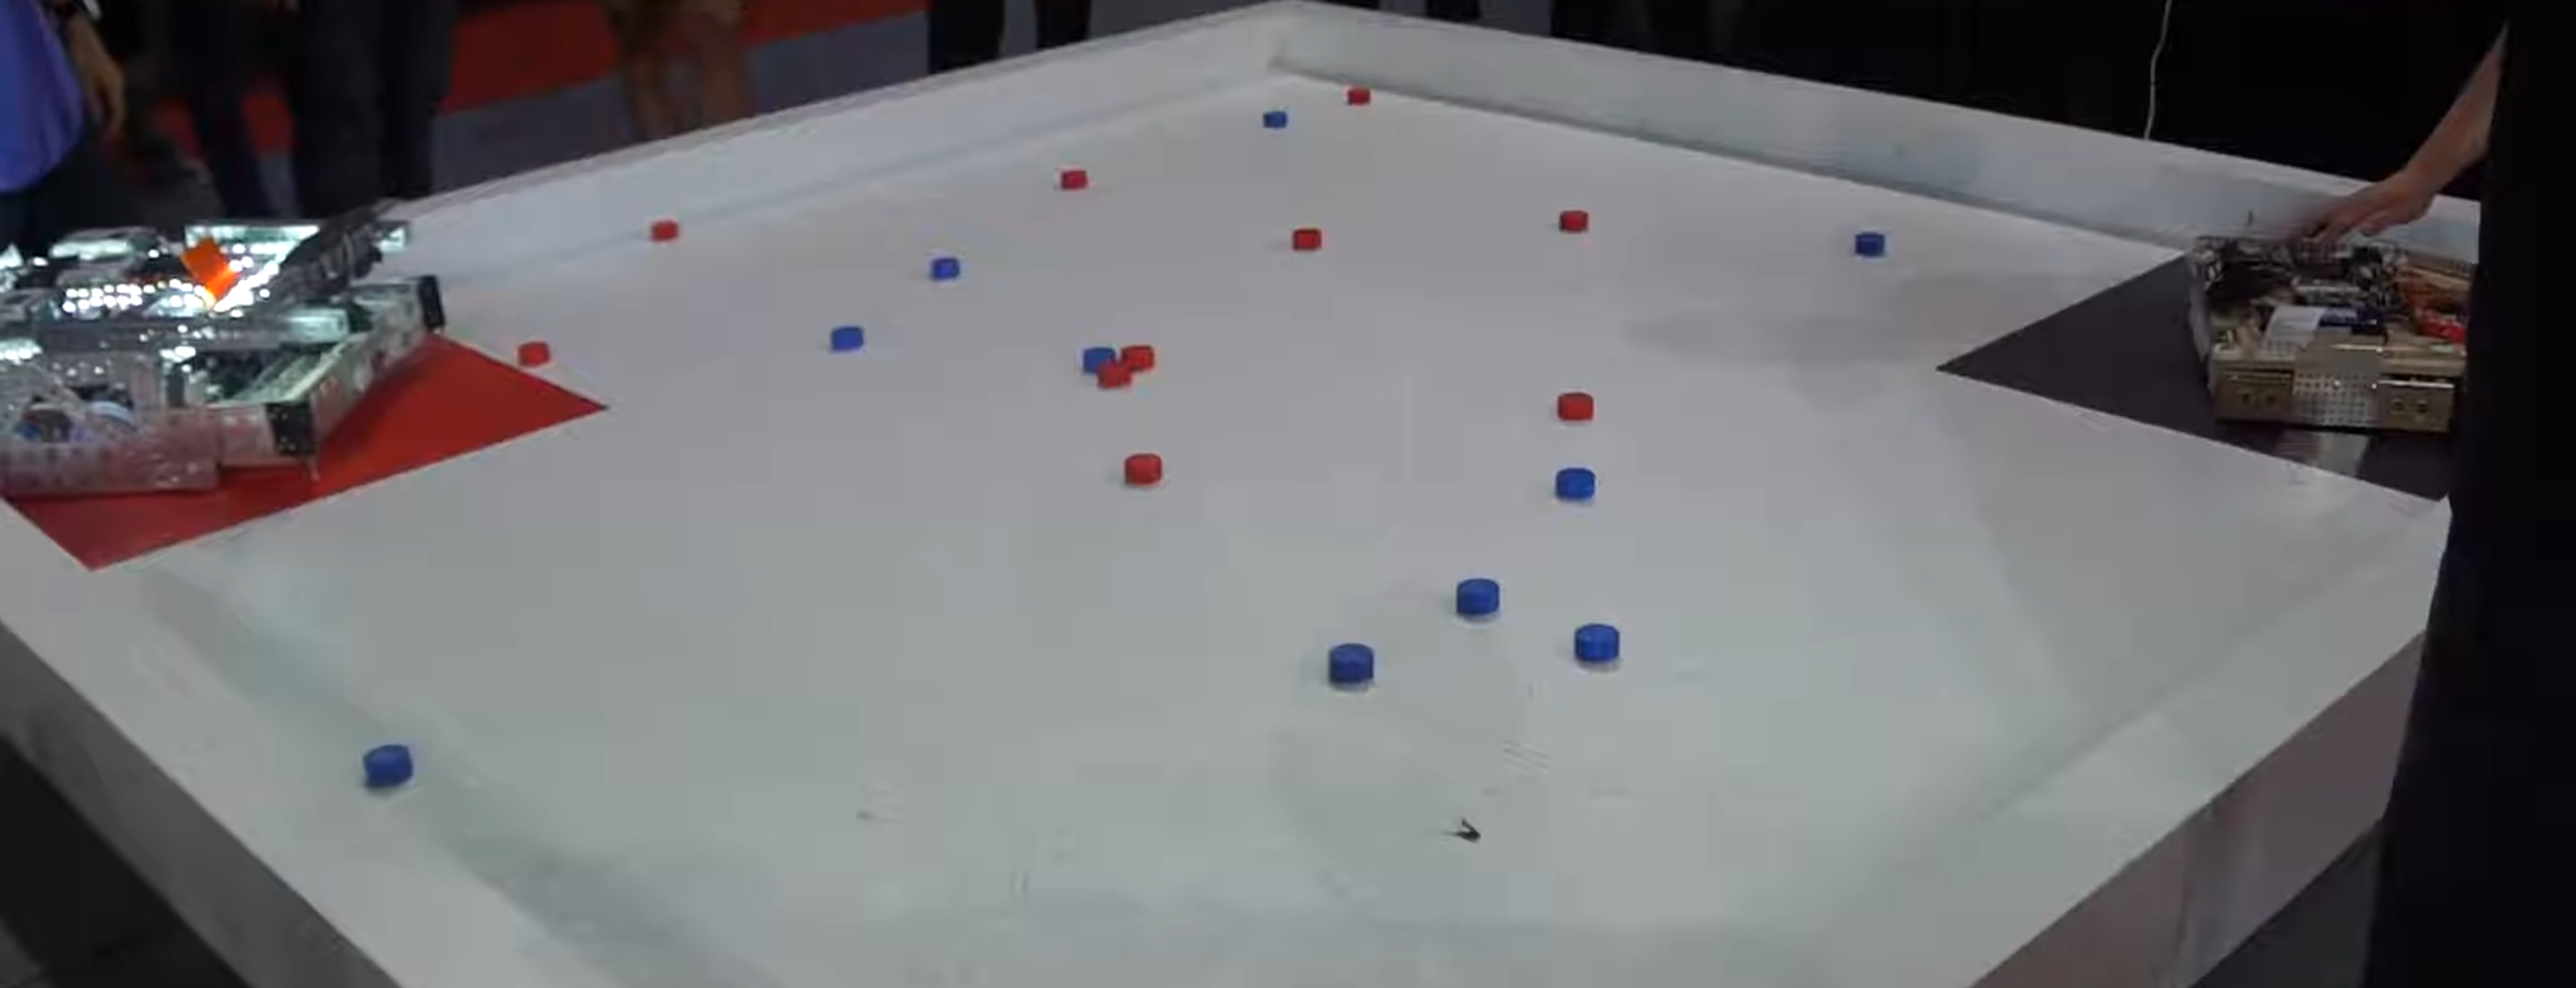blue_puck: (358, 743, 421, 789), (1569, 621, 1626, 667), (1449, 574, 1502, 620), (1324, 644, 1377, 687), (1551, 465, 1600, 503), (828, 324, 866, 353), (1079, 345, 1115, 373), (1855, 229, 1883, 260), (930, 256, 964, 281), (1262, 107, 1288, 133)
red_puck: (1120, 454, 1161, 482), (1557, 388, 1589, 419), (1122, 344, 1155, 372), (1094, 363, 1129, 390), (649, 217, 678, 245), (1559, 204, 1585, 233), (1290, 225, 1319, 252), (1342, 82, 1373, 107), (516, 339, 544, 362), (1060, 164, 1083, 189)
